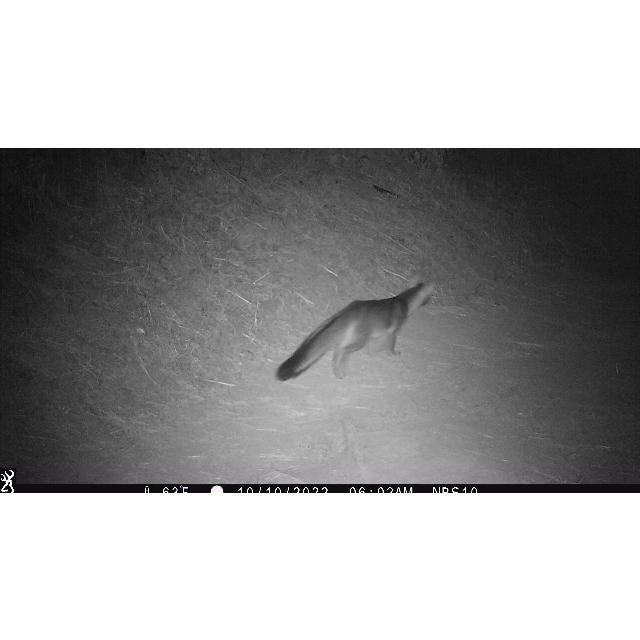animals: (275, 272, 439, 383)
